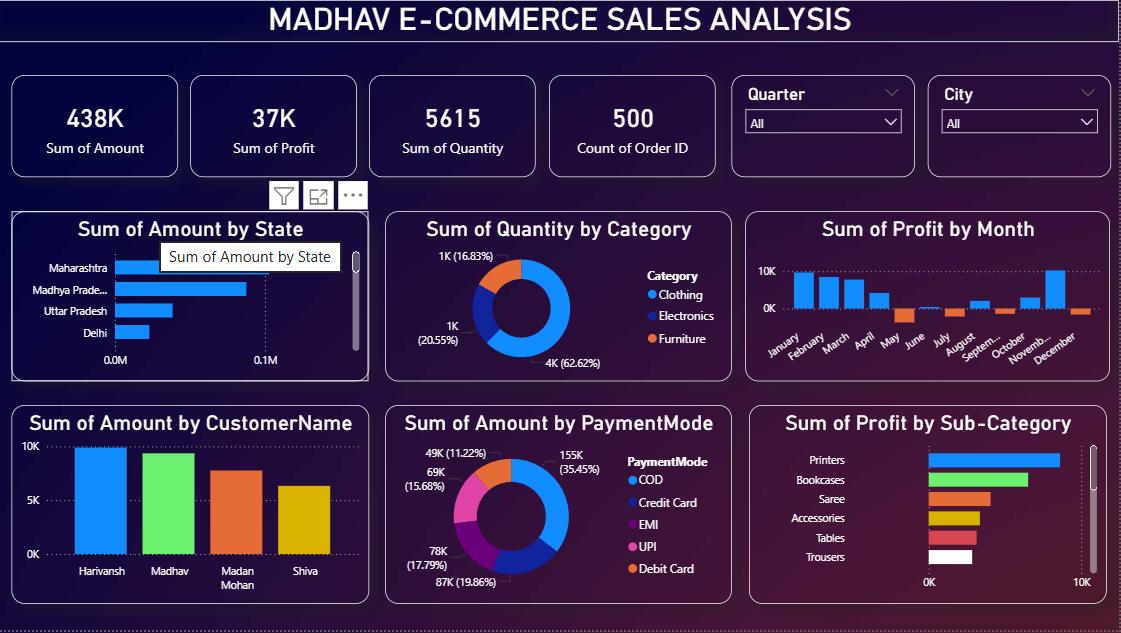

The dashboard page shown, as its layout file describes it:
{"tool":"powerbi","page":{"name":"Page 1","canvas":[1280,720],"ordinal":0},"visuals":[{"type":"card","title":"Sum of Amount","fields":{"Values":["Sum(Details.Amount)"]},"box":[13.7,85.1,190.7,116.6],"z":0},{"type":"textbox","title":"MADHAV E-COMMERCE SALES ANALYSIS","box":[0,0,1280.3,48],"z":1000},{"type":"card","title":"Sum of Profit","fields":{"Values":["Sum(Details.Profit)"]},"box":[218.2,85.1,190.7,116.6],"z":2000},{"type":"card","title":"Sum of Quantity","fields":{"Values":["Sum(Details.Quantity)"]},"box":[422.6,85.1,190.7,116.6],"z":3000},{"type":"card","title":"Sum of Amount","fields":{"Values":["Count(Details.Order ID)"]},"box":[628.5,85.1,190.7,116.6],"z":4000},{"type":"slicer","fields":{"Values":["Orders.Order Date.Variation.Date Hierarchy.Quarter"]},"box":[837.1,85.1,209.9,116.6],"z":5000},{"type":"slicer","fields":{"Values":["Orders.City"]},"box":[1060.7,85.1,209.9,116.6],"z":6000},{"type":"barChart","fields":{"Y":["Sum(Details.Amount)"],"Category":["Orders.State"]},"box":[14.3,241.4,408.6,194.3],"z":7000},{"type":"donutChart","fields":{"Y":["Sum(Details.Quantity)"],"Category":["Details.Category"]},"box":[441.4,241.4,395.7,194.3],"z":8000},{"type":"clusteredColumnChart","fields":{"Y":["Sum(Details.Profit)"],"Category":["Orders.Order Date.Variation.Date Hierarchy.Month"]},"box":[852.9,241.4,417.1,194.3],"z":9000},{"type":"lineStackedColumnComboChart","fields":{"Category":["Orders.CustomerName"],"Y":["Sum(Details.Amount)"]},"box":[14.3,462.9,408.6,227.1],"z":10000},{"type":"donutChart","fields":{"Category":["Details.PaymentMode"],"Y":["Sum(Details.Amount)"]},"box":[441.4,462.9,395.7,227.1],"z":11000},{"type":"barChart","fields":{"Category":["Details.Sub-Category"],"Y":["Sum(Details.Profit)"]},"box":[857.1,462.9,408.6,227.1],"z":12000}]}

Visuals, with their boxes in screenshot pixels (x1, y1, x2, y2), scaled from the page's 1280x720 canvas onto the 1121x633 screenshot:
"Sum of Amount" card: [12, 75, 179, 177]
"MADHAV E-COMMERCE SALES ANALYSIS" textbox: [0, 0, 1120, 42]
"Sum of Profit" card: [191, 75, 358, 177]
"Sum of Quantity" card: [370, 75, 537, 177]
"Sum of Amount" card: [550, 75, 717, 177]
slicer - Orders.Order Date.Variation.Date Hierarchy.Quarter: [733, 75, 917, 177]
slicer - Orders.City: [929, 75, 1113, 177]
barChart - Sum(Details.Amount) x Orders.State: [13, 212, 370, 383]
donutChart - Sum(Details.Quantity) x Details.Category: [387, 212, 733, 383]
clusteredColumnChart - Sum(Details.Profit) x Orders.Order Date.Variation.Date Hierarchy.Month: [747, 212, 1112, 383]
lineStackedColumnComboChart - Orders.CustomerName x Sum(Details.Amount): [13, 407, 370, 607]
donutChart - Details.PaymentMode x Sum(Details.Amount): [387, 407, 733, 607]
barChart - Details.Sub-Category x Sum(Details.Profit): [751, 407, 1108, 607]
